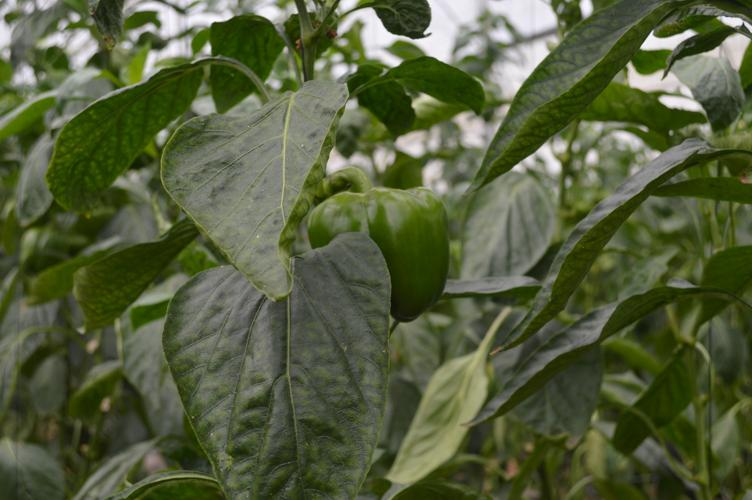BellPepper: (307, 180, 455, 329)
